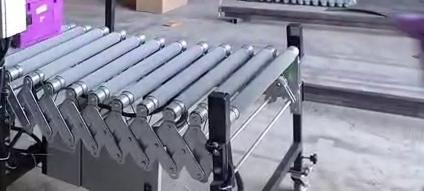box: (17, 0, 63, 47)
